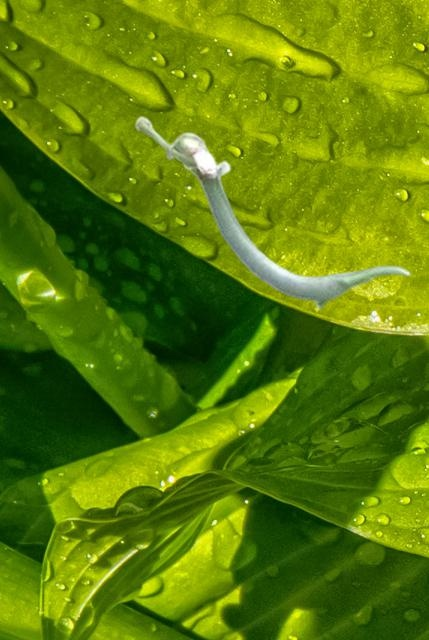french_bean: (134, 115, 410, 309)
